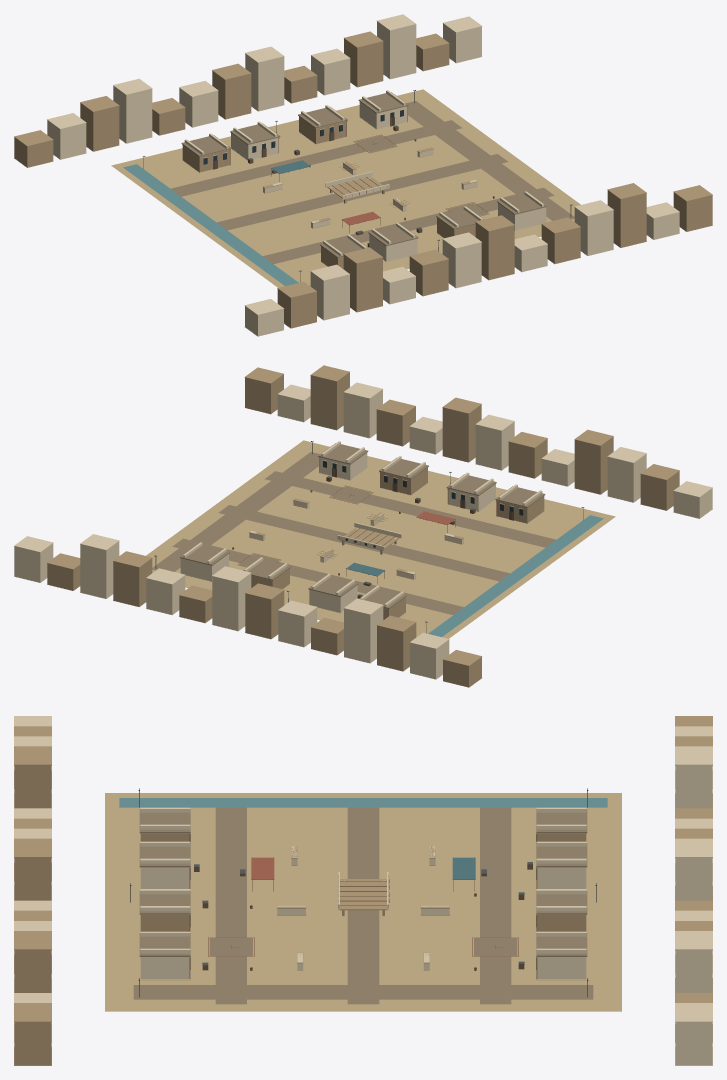
Rendered from sandstorm.glb.
3 renders of one model, top to bottom at view 1: azimuth 30°, elevation 25°; view 2: azimuth 150°, elevation 25°; view 3: azimuth 270°, elevation 25°, orthographic. The views are drawn at different scales.
Parts seen in each view (by area): view 1: sandstorm:plaster, sandstorm:ground, sandstorm:stone, sandstorm:tile, sandstorm:sea; view 2: sandstorm:plaster, sandstorm:ground, sandstorm:stone, sandstorm:tile, sandstorm:sea; view 3: sandstorm:ground, sandstorm:tile, sandstorm:plaster, sandstorm:stone, sandstorm:sea, sandstorm:wood, sandstorm:rust, sandstorm:clothBlue, sandstorm:clothRed.
Boxes of the visible parts, bbox=[...] form: sandstorm:plaster: bbox=[47, 14, 679, 336]; sandstorm:ground: bbox=[111, 89, 580, 287]; sandstorm:stone: bbox=[14, 31, 712, 328]; sandstorm:tile: bbox=[171, 92, 574, 263]; sandstorm:sea: bbox=[123, 164, 298, 285]; sandstorm:plaster: bbox=[14, 382, 712, 679]; sandstorm:ground: bbox=[146, 440, 615, 638]; sandstorm:stone: bbox=[47, 365, 679, 687]; sandstorm:tile: bbox=[152, 443, 555, 614]; sandstorm:sea: bbox=[428, 515, 603, 636]; sandstorm:ground: bbox=[105, 793, 621, 1011]; sandstorm:tile: bbox=[133, 807, 593, 1004]; sandstorm:plaster: bbox=[14, 716, 712, 1065]; sandstorm:stone: bbox=[14, 716, 712, 1065]; sandstorm:sea: bbox=[119, 798, 607, 807]; sandstorm:wood: bbox=[194, 864, 532, 970]; sandstorm:rust: bbox=[189, 833, 537, 979]; sandstorm:clothBlue: bbox=[452, 857, 475, 879]; sandstorm:clothRed: bbox=[251, 857, 274, 879].
Size of the model in its own units: 262 by 27 by 243.
